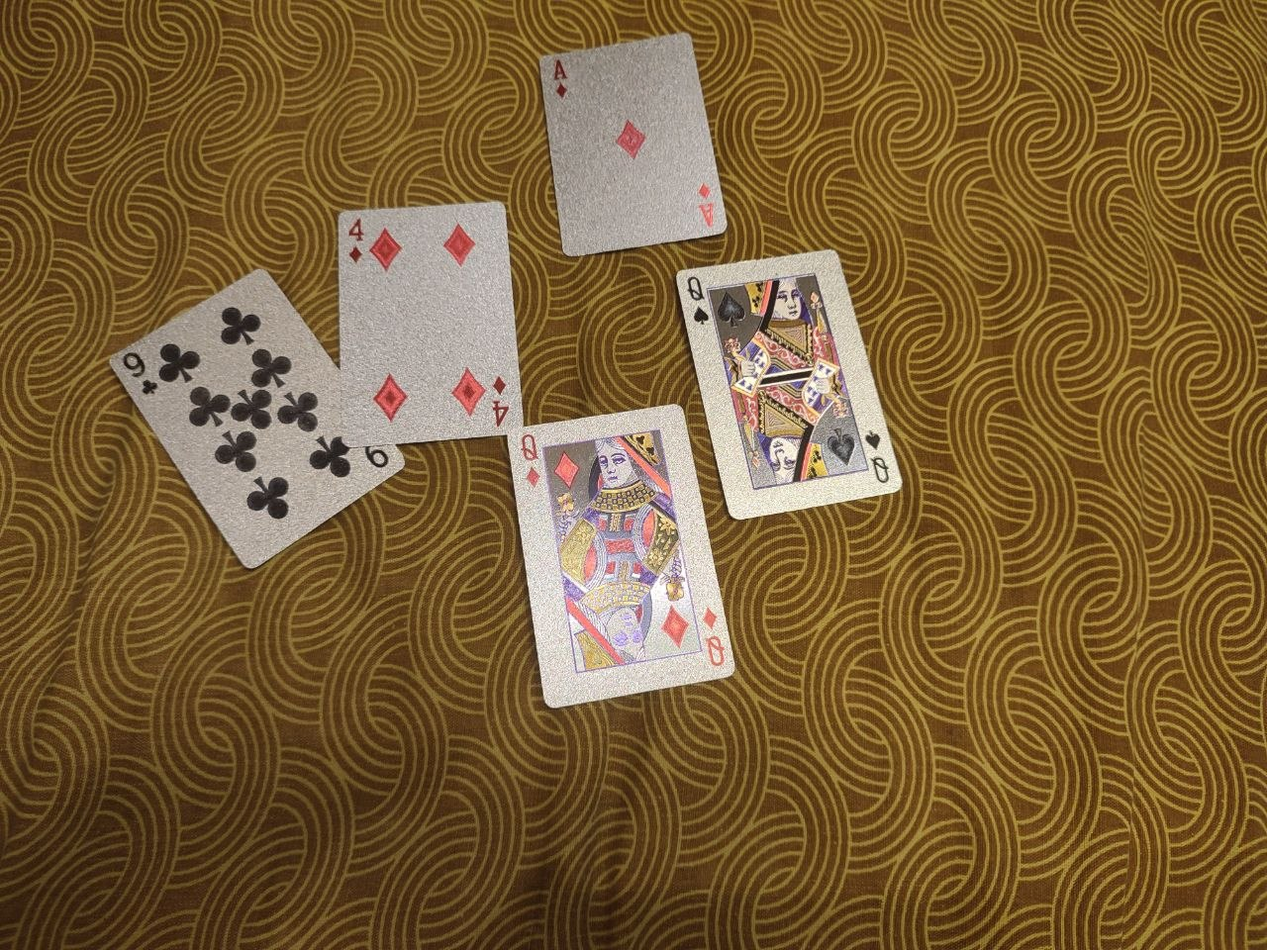4D: (334, 200, 526, 445)
9C: (107, 265, 409, 569)
AD: (536, 29, 733, 260)
QD: (505, 402, 739, 710)
QS: (675, 245, 904, 521)
